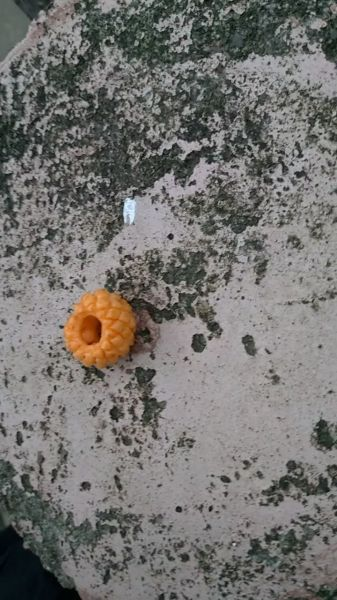eggs: (56, 287, 141, 369)
